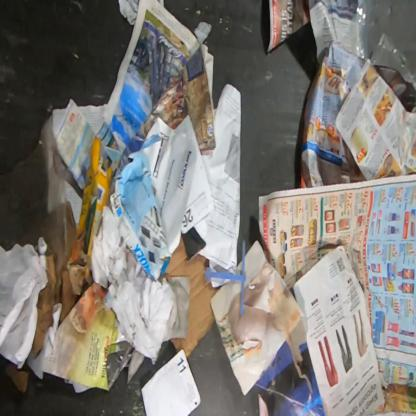cardboard: (30, 199, 90, 358), (111, 152, 172, 280), (163, 235, 220, 359), (74, 134, 113, 287), (6, 362, 29, 393)
soft_plastic: (0, 113, 72, 260), (351, 0, 415, 94)
